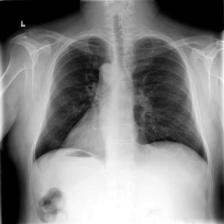normal: (29, 30, 212, 167)
